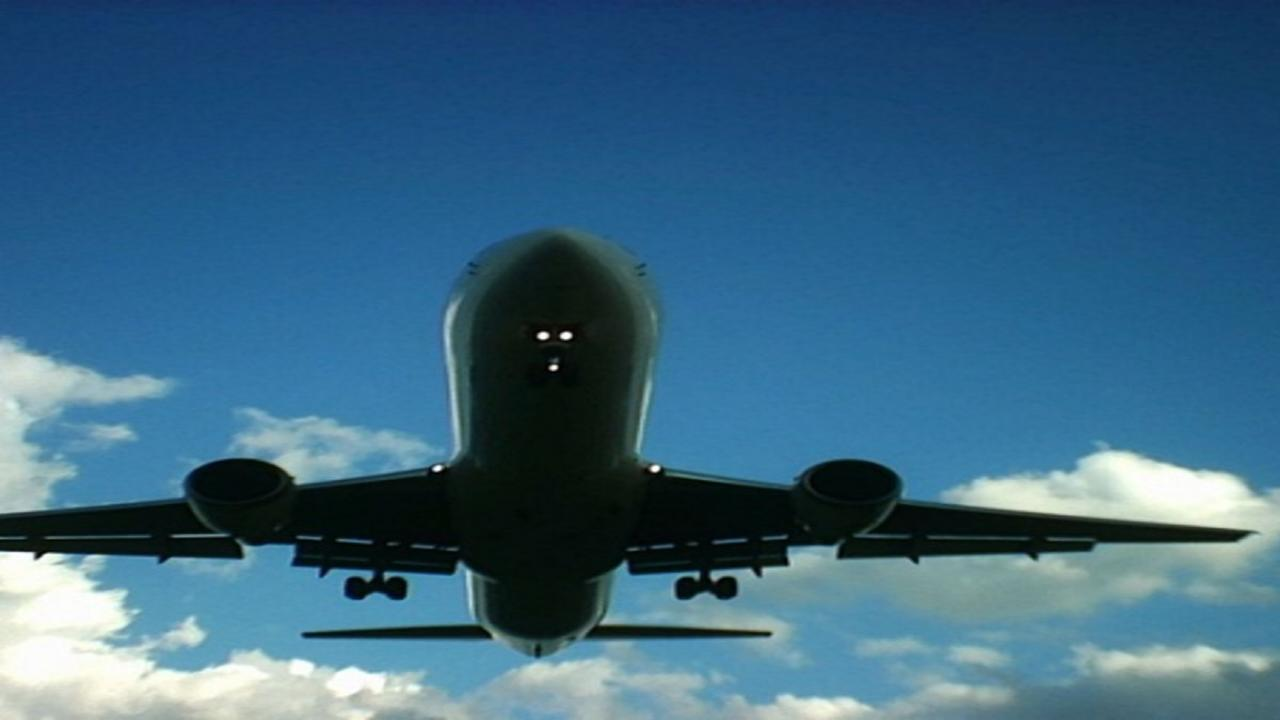Airplane: (0, 216, 1271, 671)
